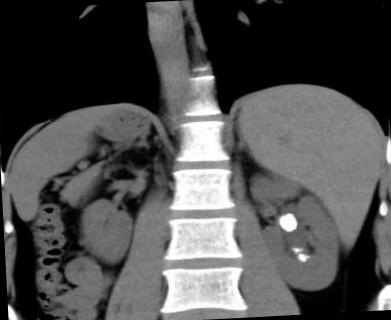Tas_Var: (275, 210, 299, 233), (298, 252, 307, 264), (294, 248, 299, 253), (306, 254, 310, 258), (294, 252, 298, 255), (294, 256, 298, 259)
